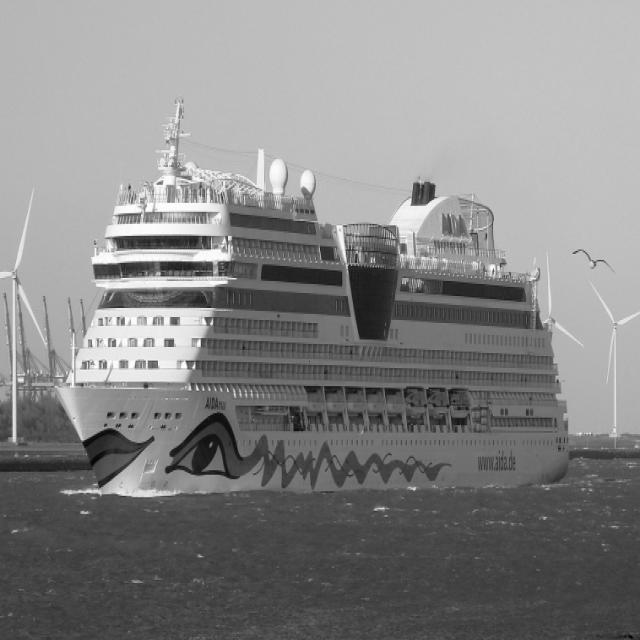cruises: (54, 96, 578, 500)
